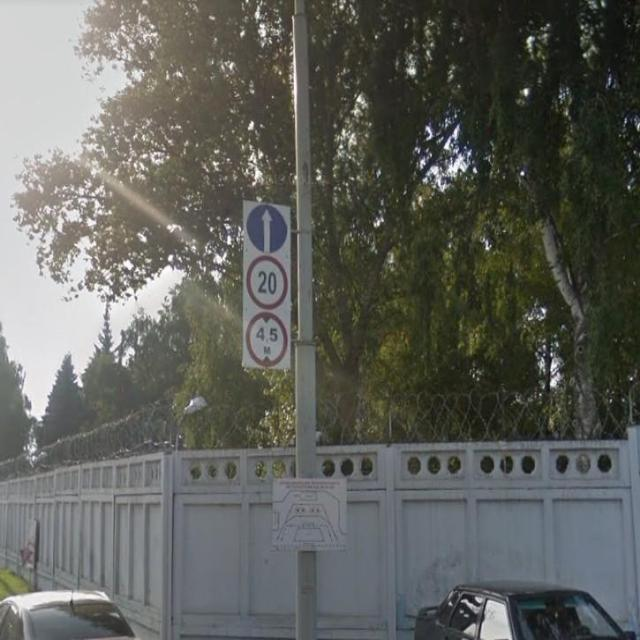forb_speed_over_20: (243, 252, 293, 311)
